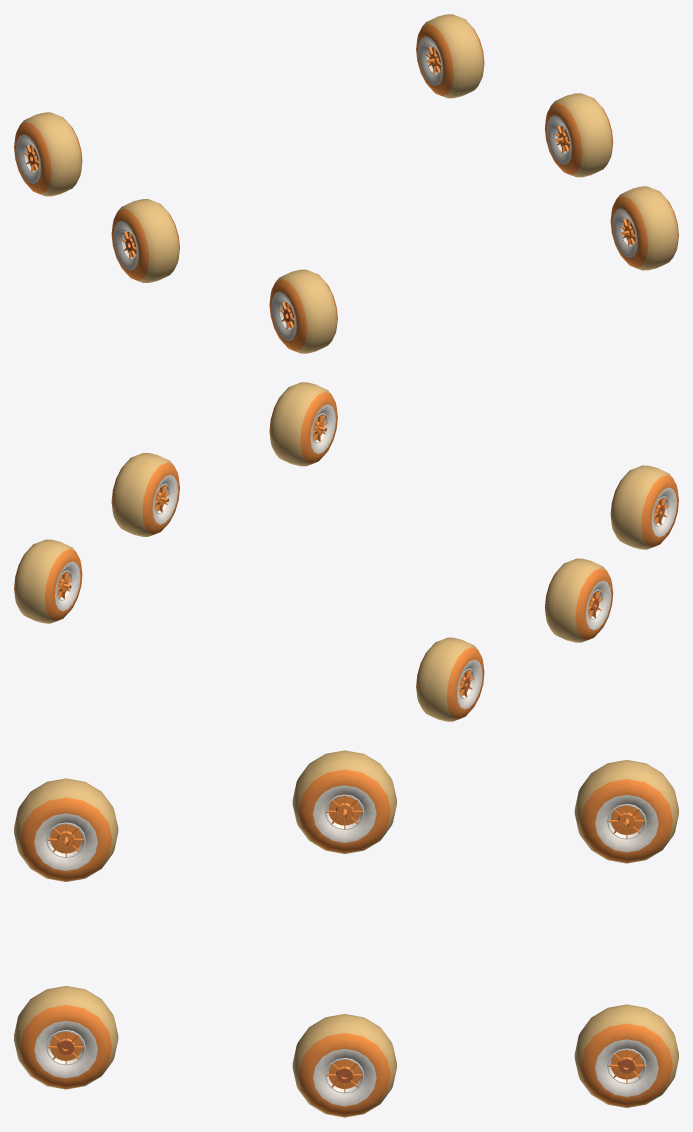
File: Wheels Sand.fbx
3 renders of one model, top to bottom at view 1: azimuth 30°, elevation 25°; view 2: azimuth 150°, elevation 25°; view 3: azimuth 270°, elevation 25°, orthographic. The views are drawn at different scales.
Parts seen in each view (by area): view 1: RF.001, LR.001, RR.001, LF.001, LM.001, RM.001; view 2: LF.001, RR.001, LR.001, RF.001, LM.001, RM.001; view 3: LR.001, RR.001, LF.001, RF.001, LM.001, RM.001.
Boxes of the visible parts, x1=… form: RF.001: x1=269, y1=269, x2=337, y2=353; LR.001: x1=416, y1=14, x2=484, y2=98; RR.001: x1=14, y1=112, x2=82, y2=196; LF.001: x1=610, y1=186, x2=678, y2=270; LM.001: x1=544, y1=93, x2=613, y2=177; RM.001: x1=111, y1=199, x2=179, y2=282; LF.001: x1=269, y1=382, x2=337, y2=466; RR.001: x1=416, y1=637, x2=484, y2=721; LR.001: x1=14, y1=539, x2=82, y2=623; RF.001: x1=610, y1=465, x2=678, y2=549; LM.001: x1=111, y1=453, x2=179, y2=536; RM.001: x1=544, y1=558, x2=613, y2=642; LR.001: x1=574, y1=1004, x2=678, y2=1107; RR.001: x1=574, y1=760, x2=678, y2=863; LF.001: x1=14, y1=986, x2=118, y2=1089; RF.001: x1=14, y1=778, x2=118, y2=881; LM.001: x1=292, y1=1014, x2=396, y2=1117; RM.001: x1=292, y1=750, x2=396, y2=853.
Bounding box in the file's own units: 23.75 × 3.64 × 23.24.
